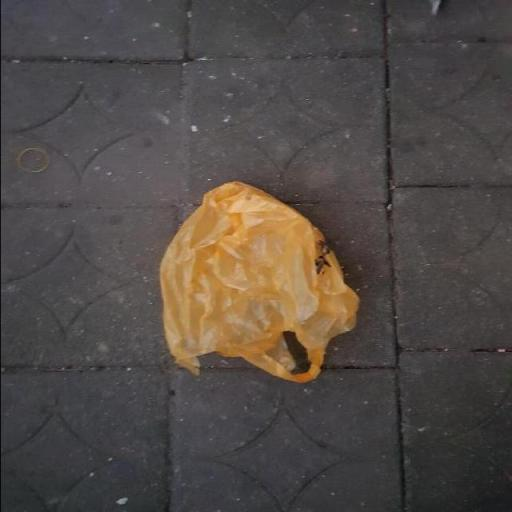plastic-bag: (154, 178, 362, 384)
